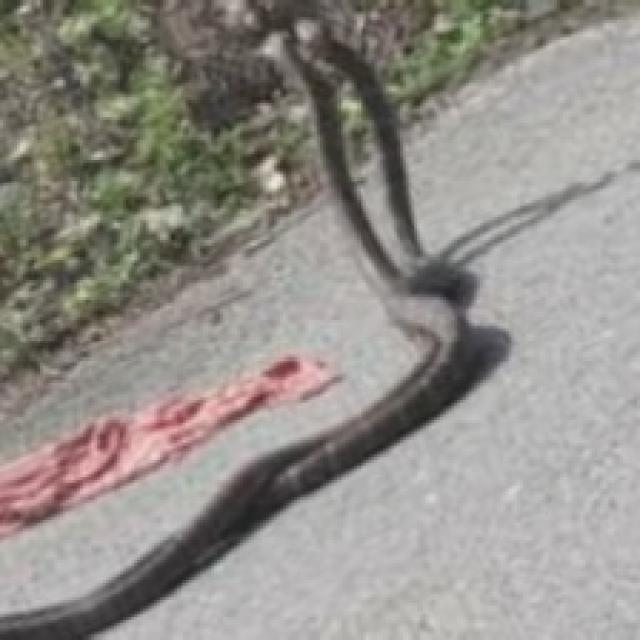king cobra: (91, 171, 637, 637), (0, 197, 411, 611), (406, 17, 637, 249)
